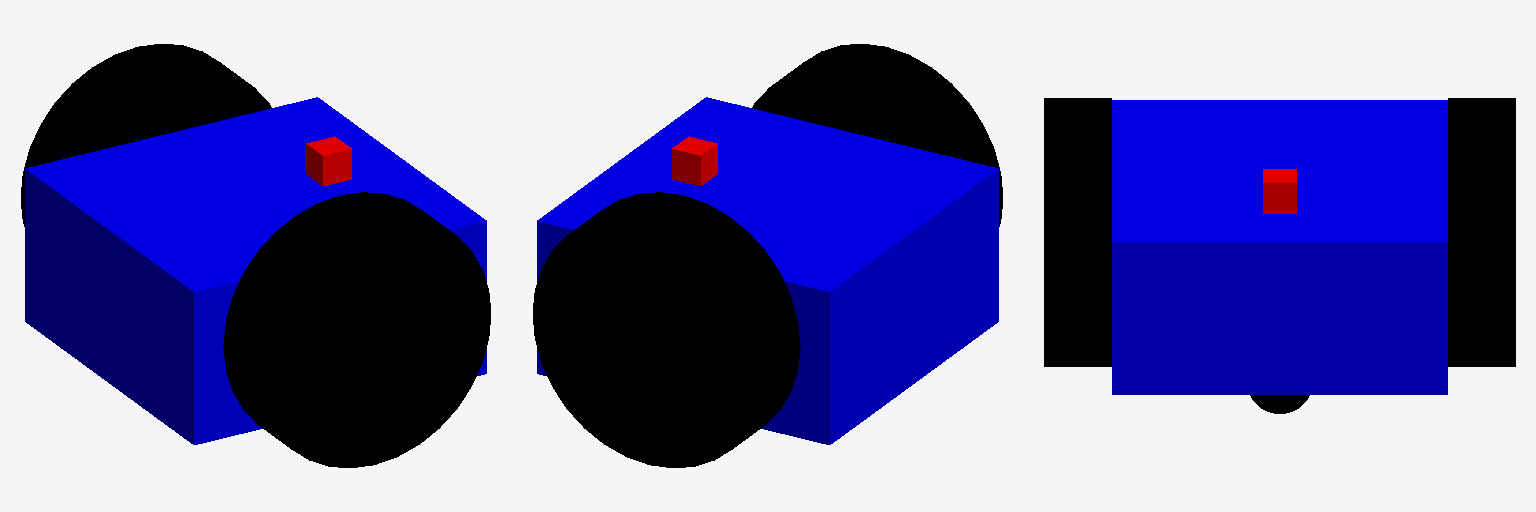
The robot description file, URDF, robot "dd_robot":
<?xml version='1.0'?>
<robot name="dd_robot">

<!-- Colors -->
<material name="blue">
    <color rgba= "0 0 1 1"/>
  </material>
  <material name="grey">
    <color rgba="0.75 0.75 0.75 1"/>
  </material>
  <material name="black">
    <color rgba="0 0 0 1"/>
  </material>

  <!-- ... -->


  <!-- Base Link -->
  <link name="base_link">
    <visual>
      <origin xyz="0 0 0" rpy="0 0 0" />
      <geometry>
          <box size="0.5 0.5 0.25"/>
      </geometry>
       <material name="blue"/>
    </visual>
    <!-- Base collision, mass and inertia -->
    <collision>
      <origin xyz="0 0 0" rpy="0 0 0" />
      <geometry>
          <box size="0.5 0.5 0.25"/>
      </geometry>
    </collision>
    <inertial>
      <mass value="40"/>
      <inertia ixx="0.13" ixy="0.0" ixz="0.0" iyy="0.21" iyz="0.0" izz="0.13"/>
    </inertial>



    <!-- Caster -->
    <visual name="caster">
      <origin xyz="0.2 0 -0.125" rpy="0 0 0" />
      <geometry>
        <sphere radius="0.05" />
      </geometry>
        <material name="black"/>
    </visual>
    <!-- Caster collision, mass and inertia -->
    <collision>
      <origin xyz="0.2 0 -0.125" rpy="0 0 0" />
      <geometry>
        <sphere radius="0.05" />
      </geometry>
    </collision>
    <inertial>
      <mass value="0.5"/>
      <inertia ixx="0.0001" ixy="0.0" ixz="0.0" iyy="0.0001" iyz="0.0" izz="0.0001"/>
    </inertial>

  </link>

  <gazebo reference="base_link">
    <material>Gazebo/Blue</material>
    <pose>0 0 3 0 0 0</pose>
  </gazebo>

<gazebo reference="caster">
  <material>Gazebo/Black</material>
  <pose>0 0 3 0 0 0</pose>
</gazebo>

  <!-- Right Wheel -->
  <link name="right_wheel">
    <visual>
      <origin xyz="0 0 0" rpy="1.570795 0 0" />
      <geometry>
          <cylinder length="0.1" radius="0.2" />
      </geometry>
        <material name="black"/>
    </visual>
    <!-- Right Wheel collision, mass and inertia -->
    <collision>
      <origin xyz="0 0 0" rpy="1.570795 0 0" />
      <geometry>
          <cylinder length="0.1" radius="0.2" />
      </geometry>
    </collision>
    <inertial>
      <mass value="5.0"/>
      <inertia ixx="0.01" ixy="0.0" ixz="0.0" iyy="0.005" iyz="0.0" izz="0.005"/>
    </inertial>

  </link>

  <gazebo reference="right_wheel">
    <material>Gazebo/Black</material>
  </gazebo>

  <!-- Right Wheel joint -->
  <joint name="joint_right_wheel" type="continuous">
    <parent link="base_link"/>
    <child link="right_wheel"/>
    <origin xyz="0 -0.30 0.025" rpy="0 0 0" />
    <axis xyz="0 1 0" />
  </joint>



  <!-- Left Wheel -->
  <link name="left_wheel">
    <visual>
      <origin xyz="0 0 0" rpy="1.570795 0 0" />
      <geometry>
          <cylinder length="0.1" radius="0.2" />
      </geometry>
        <material name="black"/>
    </visual>
    <!-- Left Wheel collision, mass and inertia -->
    <collision>
      <origin xyz="0 0 0" rpy="1.570795 0 0" />
      <geometry>
          <cylinder length="0.1" radius="0.2" />
      </geometry>
    </collision>
    <inertial>
      <mass value="5.0"/>
      <inertia ixx="0.01" ixy="0.0" ixz="0.0" iyy="0.005" iyz="0.0" izz="0.005"/>
    </inertial>

  </link>

  <gazebo reference="left_wheel">
    <material>Gazebo/Black</material>
  </gazebo>

  <!-- Left Wheel joint -->
  <joint name="joint_left_wheel" type="continuous">
    <parent link="base_link"/>
    <child link="left_wheel"/>
    <origin xyz="0 0.30 0.025" rpy="0 0 0" />
    <axis xyz="0 1 0"/>
  </joint>



<joint name="camera_joint" type="fixed">
  <axis xyz="0 1 0" />
  <origin xyz="0.125 0 0.150" rpy="0 0 0"/>
  <parent link="base_link"/>
  <child link="camera_link"/>
</joint>

<!-- Camera -->
<link name="camera_link">
  <collision>
    <origin xyz="0 0 0" rpy="0 0 0"/>
    <geometry>
      <box size="0.05 0.05 0.05"/>
    </geometry>
  </collision>

  <visual>
    <origin xyz="0 0 0" rpy="0 0 0"/>
    <geometry>
      <box size="0.05 0.05 0.05"/>
    </geometry>
    <material name="red">
      <color rgba="1 0 0 1"/>
    </material>
  </visual>

  <inertial>
    <mass value="1e-5" />
    <origin xyz="0 0 0" rpy="0 0 0"/>
    <inertia ixx="1e-6" ixy="0" ixz="0" iyy="1e-6" iyz="0" izz="1e-6" />
  </inertial>
</link>


<joint name="hokuyo_joint" type="fixed">
  <axis xyz="0 1 0" />
  <origin xyz="0.125 0.05 0.160" rpy="0 0 0"/>
  <parent link="base_link"/>
  <child link="hokuyo_link"/>
</joint>

<!-- Hokuyo Laser -->
<link name="hokuyo_link">
  <collision>
    <origin xyz="0 0 0" rpy="0 0 0"/>
    <geometry>
      <box size="0.1 0.1 0.1"/>
    </geometry>
  </collision>

  <visual>
    <origin xyz="0 0 0" rpy="0 0 0"/>
    <geometry>
      <mesh filename="package://server/meshes/hokuyo.dae"/>
    </geometry>
  </visual>

  <inertial>
    <mass value="1e-5" />
    <origin xyz="0 0 0" rpy="0 0 0"/>
    <inertia ixx="1e-6" ixy="0" ixz="0" iyy="1e-6" iyz="0" izz="1e-6" />
  </inertial>
</link>


<!-- camera_link -->
<gazebo reference="camera_link">
  <mu1>0.2</mu1>
  <mu2>0.2</mu2>
  <material>Gazebo/Red</material>
</gazebo>

<!-- hokuyo -->
<gazebo reference="hokuyo_link">
  <sensor type="ray" name="head_hokuyo_sensor">
    <pose>0 0 0 0 0 0</pose>
    <visualize>false</visualize>
    <update_rate>40</update_rate>
    <ray>
      <scan>
        <horizontal>
          <samples>720</samples>
          <resolution>1</resolution>
          <min_angle>-1.570796</min_angle>
          <max_angle>1.570796</max_angle>
        </horizontal>
      </scan>
      <range>
        <min>0.10</min>
        <max>30.0</max>
        <resolution>0.01</resolution>
      </range>
      <noise>
        <type>gaussian</type>
        <!-- Noise parameters based on published spec for Hokuyo laser
             achieving "+-30mm" accuracy at range < 10m.  A mean of 0.0m and
             stddev of 0.01m will put 99.7% of samples within 0.03m of the true
             reading. -->
        <mean>0.0</mean>
        <stddev>0.01</stddev>
      </noise>
    </ray>
    <plugin name="gazebo_ros_head_hokuyo_controller" filename="libgazebo_ros_laser.so">
      <topicName>/robot/laser/scan</topicName>
      <frameName>hokuyo_link</frameName>
    </plugin>
  </sensor>
</gazebo>

<!-- camera -->
<gazebo reference="camera_link">
  <sensor type="camera" name="camera1">
    <update_rate>30.0</update_rate>
    <camera name="head">
      <horizontal_fov>1.3962634</horizontal_fov>
      <image>
        <width>800</width>
        <height>800</height>
        <format>R8G8B8</format>
      </image>
      <clip>
        <near>0.02</near>
        <far>300</far>
      </clip>
      <noise>
        <type>gaussian</type>
        <!-- Noise is sampled independently per pixel on each frame.
             That pixel's noise value is added to each of its color
             channels, which at that point lie in the range [0,1]. -->
        <mean>0.0</mean>
        <stddev>0.007</stddev>
      </noise>
    </camera>
    <plugin name="camera_controller" filename="libgazebo_ros_camera.so">
      <alwaysOn>true</alwaysOn>
      <updateRate>0.0</updateRate>
      <cameraName>robot/camera1</cameraName>
      <imageTopicName>image_raw</imageTopicName>
      <cameraInfoTopicName>camera_info</cameraInfoTopicName>
      <frameName>camera_link</frameName>
      <hackBaseline>0.07</hackBaseline>
      <distortionK1>0.0</distortionK1>
      <distortionK2>0.0</distortionK2>
      <distortionK3>0.0</distortionK3>
      <distortionT1>0.0</distortionT1>
      <distortionT2>0.0</distortionT2>
    </plugin>
  </sensor>
</gazebo>

<gazebo>
   <plugin name="differential_drive_controller" filename="libgazebo_ros_diff_drive.so">
     <alwaysOn>false</alwaysOn>
     <legacyMode>false</legacyMode>
     <updateRate>20</updateRate>
     <leftJoint>joint_left_wheel</leftJoint>
     <rightJoint>joint_right_wheel</rightJoint>
     <wheelSeparation>1.0</wheelSeparation>
     <wheelDiameter>0.4</wheelDiameter>
     <torque>20</torque>
     <commandTopic>/ddrobot/base_controller/cmd_vel</commandTopic>
     <odometryTopic>/ddrobot/base_controller/odom</odometryTopic>
     <odometryFrame>odom</odometryFrame>
     <robotBaseFrame>base_link</robotBaseFrame>
   </plugin>
 </gazebo>


</robot>

--- What the picture shows (computed from the rendered views, not written in the file) ---
Views: 3 orthographic renders of the robot side by side, from view 1: azimuth 30°, elevation 25°; view 2: azimuth 150°, elevation 25°; view 3: azimuth 270°, elevation 25°.
Robot: dd_robot — 5 links, 4 joints (2 continuous, 2 fixed); root link base_link; default pose: every joint at zero.
Visible links, largest first — view 1: base_link, right_wheel, left_wheel, camera_link; view 2: base_link, left_wheel, right_wheel, camera_link; view 3: base_link, right_wheel, left_wheel, camera_link.
Link boxes in pixels (x1,y1,x2,y2): base_link: [25, 97, 486, 444]; right_wheel: [223, 192, 490, 467]; left_wheel: [21, 44, 271, 226]; camera_link: [306, 136, 351, 185]; base_link: [537, 97, 998, 444]; left_wheel: [533, 192, 800, 467]; right_wheel: [752, 44, 1002, 226]; camera_link: [672, 136, 717, 185]; base_link: [1112, 100, 1447, 413]; right_wheel: [1044, 98, 1111, 366]; left_wheel: [1448, 98, 1515, 366]; camera_link: [1263, 169, 1296, 213].
Size in the robot's own frame: 0.5 by 0.7 by 0.4 metres.
0 mesh visuals loaded from 1 distinct referenced files (none loaded); not drawn: 1 (reference not matched to a file when rendering).
